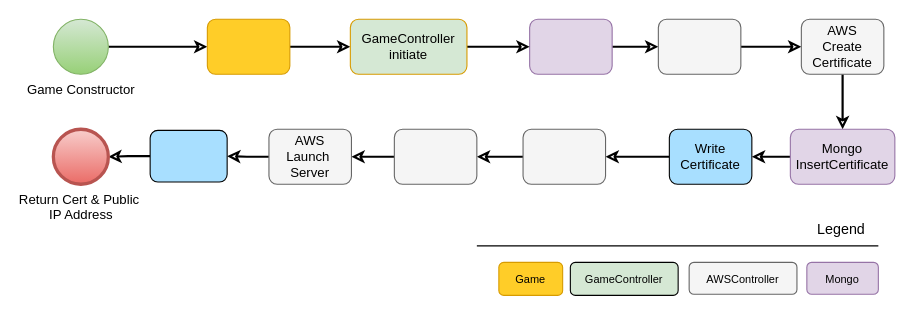
Image size: 914x315. Some labels were removed from this diagram. Each missing label, with the centre of its shape:
"AWS Add New Server" belongs at [435,156].
"AWS Create Credentials" belongs at [699,46].
"AWS Create Server" belongs at [564,156].
"CHMOD 400 CERT" belongs at [188,155].
"Game Create" belongs at [248,46].
"Mongo InsertPlayer" belongs at [570,46].
